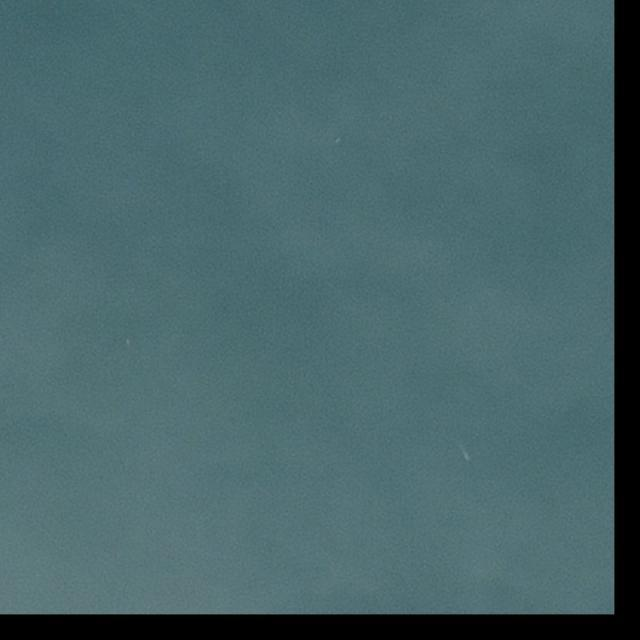ship: (462, 452, 472, 466), (332, 134, 342, 146), (122, 338, 130, 349)
